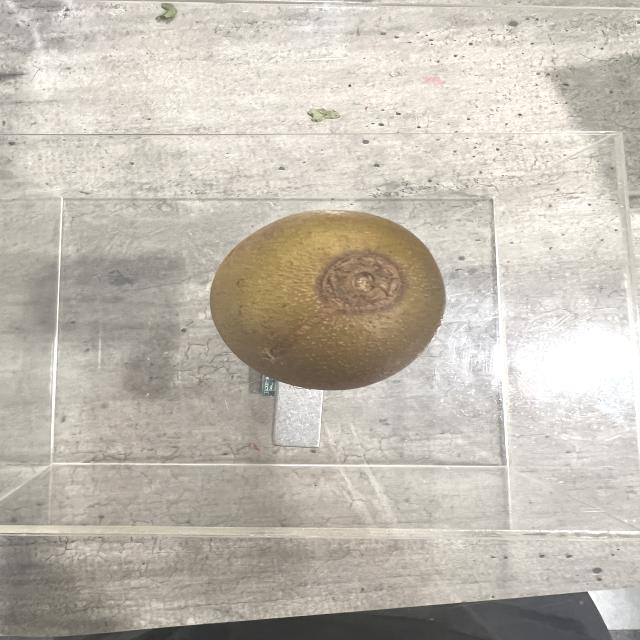kiwi: (211, 207, 450, 392)
